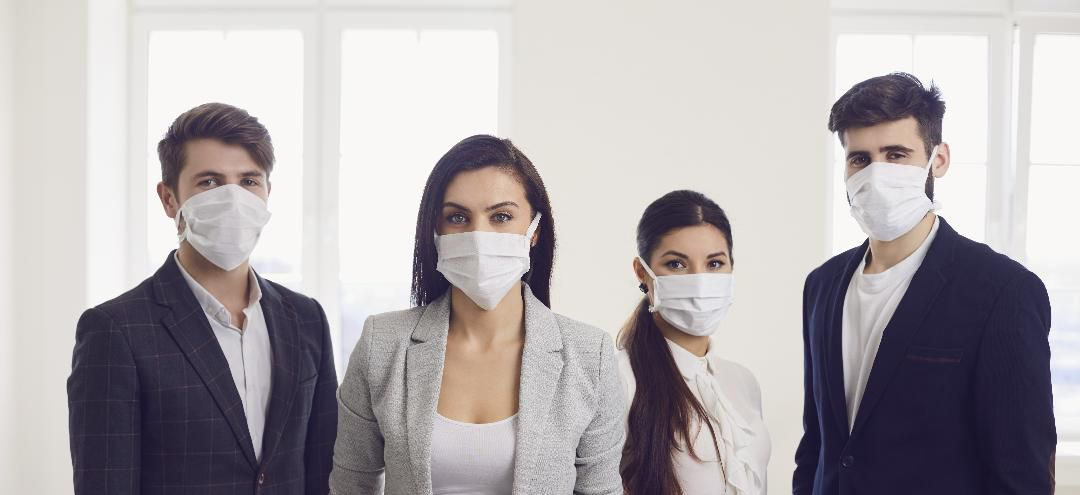with_mask: (438, 190, 531, 310), (170, 147, 273, 255), (841, 127, 933, 238), (643, 238, 740, 340)
